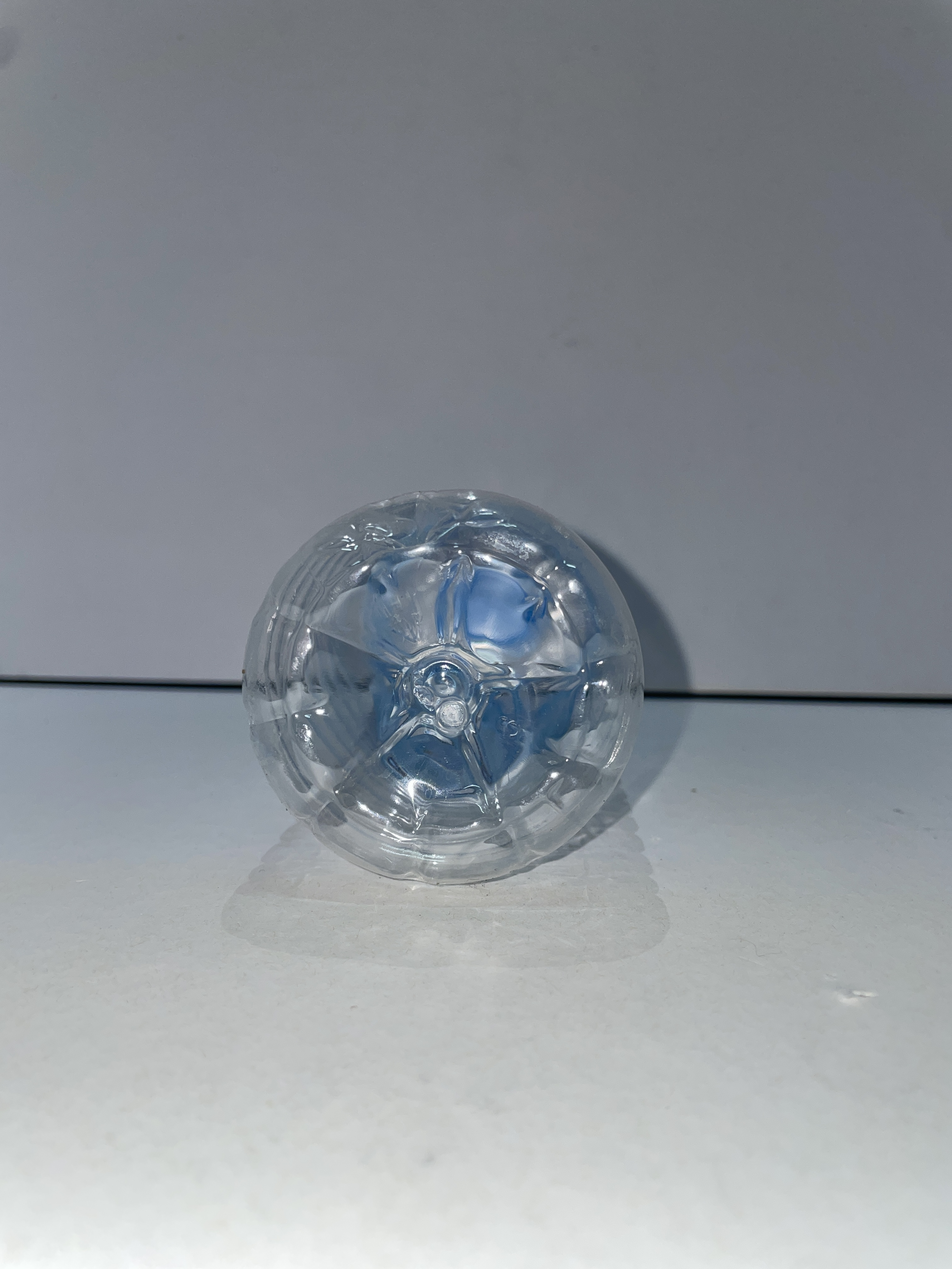Mountain Fresh 500ml: (243, 491, 643, 883)
